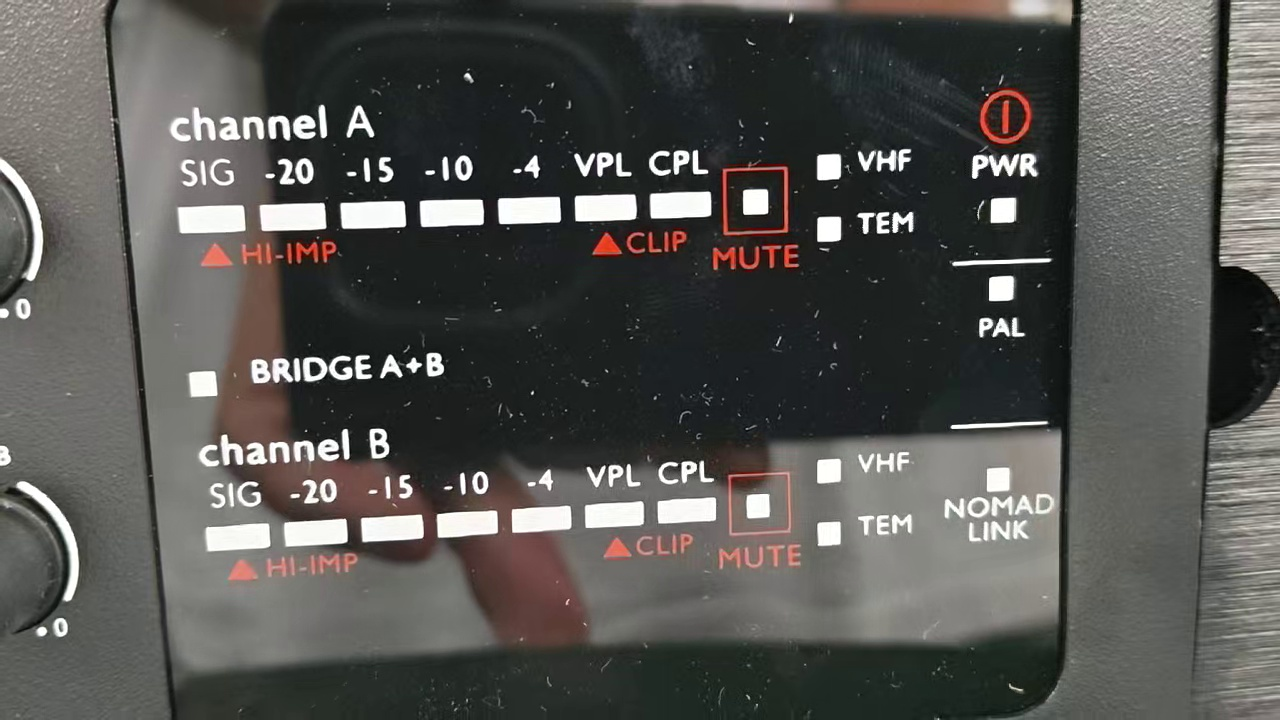FP_CPL: (645, 148, 715, 225), (655, 456, 721, 531)
FP_PWR: (960, 145, 1046, 236)
FP_PWR_area: (954, 83, 1052, 264)
FP_SIG_area: (194, 423, 916, 587), (173, 145, 923, 269)
FP_VPL: (568, 149, 640, 229), (583, 460, 647, 533)
